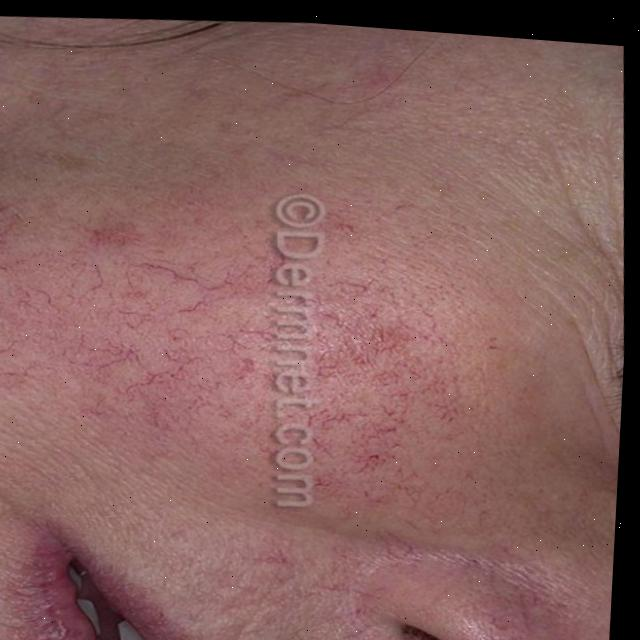Rosacea: (13, 191, 448, 497)
